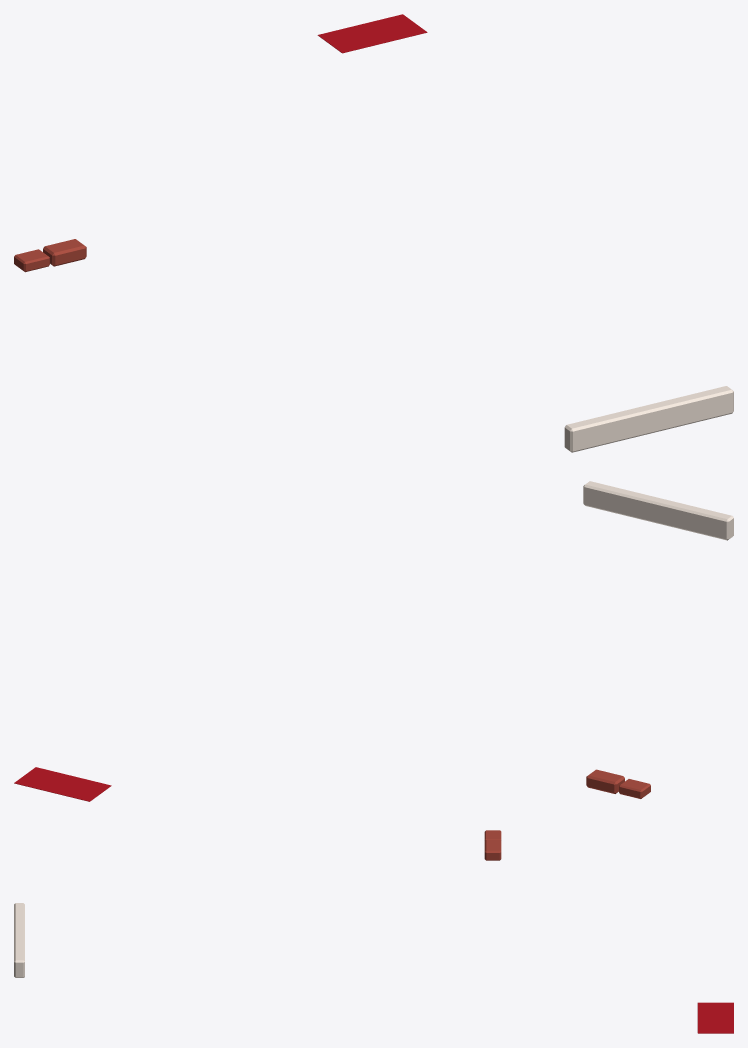
Rendered from D-CIVIC.w2.glb.
3 views of the same model, one above another, from view 1: azimuth 30°, elevation 25°; view 2: azimuth 150°, elevation 25°; view 3: azimuth 270°, elevation 25° (orthographic). The views are drawn at different scales.
Visible parts, largest first — view 1: pal_picketWhite.001, pal_blood, pal_brick.001; view 2: pal_picketWhite.001, pal_blood, pal_brick.001; view 3: pal_blood, pal_picketWhite.001, pal_brick.001.
Part boxes in pixels (x1=…): pal_picketWhite.001: x1=564, y1=386, x2=733, y2=452; pal_blood: x1=317, y1=14, x2=427, y2=53; pal_brick.001: x1=14, y1=239, x2=86, y2=272; pal_picketWhite.001: x1=583, y1=481, x2=733, y2=540; pal_blood: x1=14, y1=767, x2=111, y2=801; pal_brick.001: x1=586, y1=769, x2=650, y2=798; pal_blood: x1=697, y1=1002, x2=733, y2=1033; pal_picketWhite.001: x1=14, y1=903, x2=24, y2=977; pal_brick.001: x1=484, y1=830, x2=501, y2=860.
Bounding box in the file's own units: 16.7 × 0.7 × 25.85.
